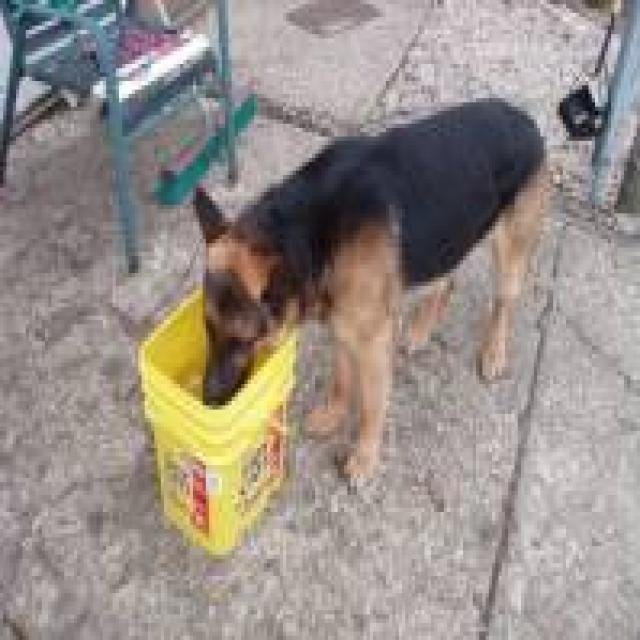dogs: (197, 123, 527, 478)
